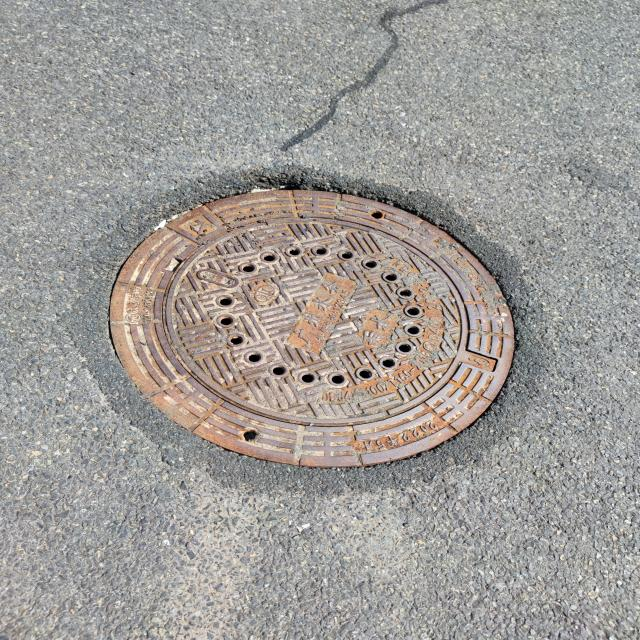Good: (104, 177, 523, 474)
